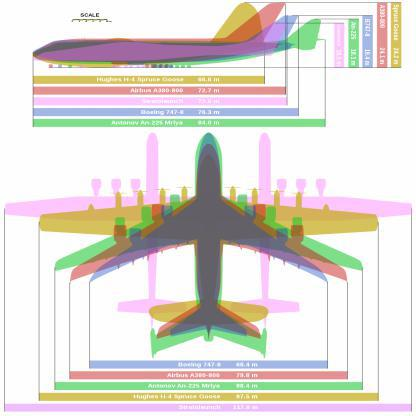CIV_Plane: (37, 131, 378, 360)
